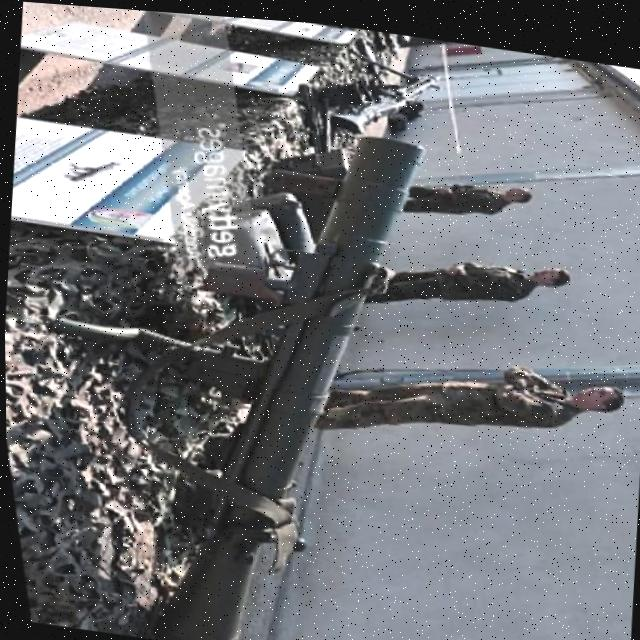rocket: (51, 88, 527, 640)
